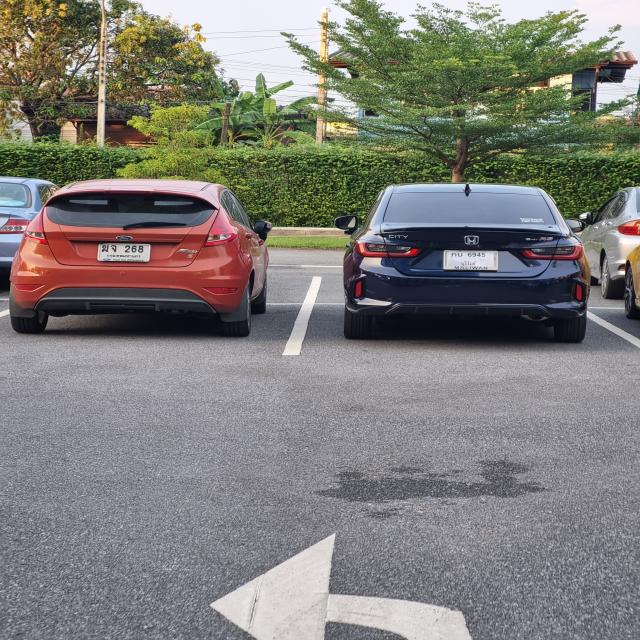license_plate: (96, 240, 150, 263), (444, 248, 497, 270)
